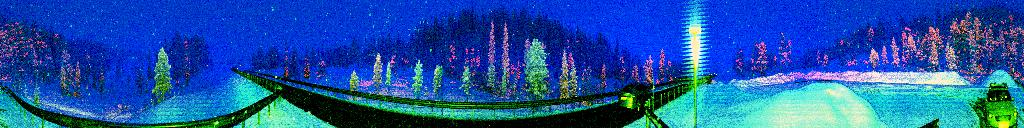pole: (652, 76, 655, 97), (274, 71, 278, 84)
